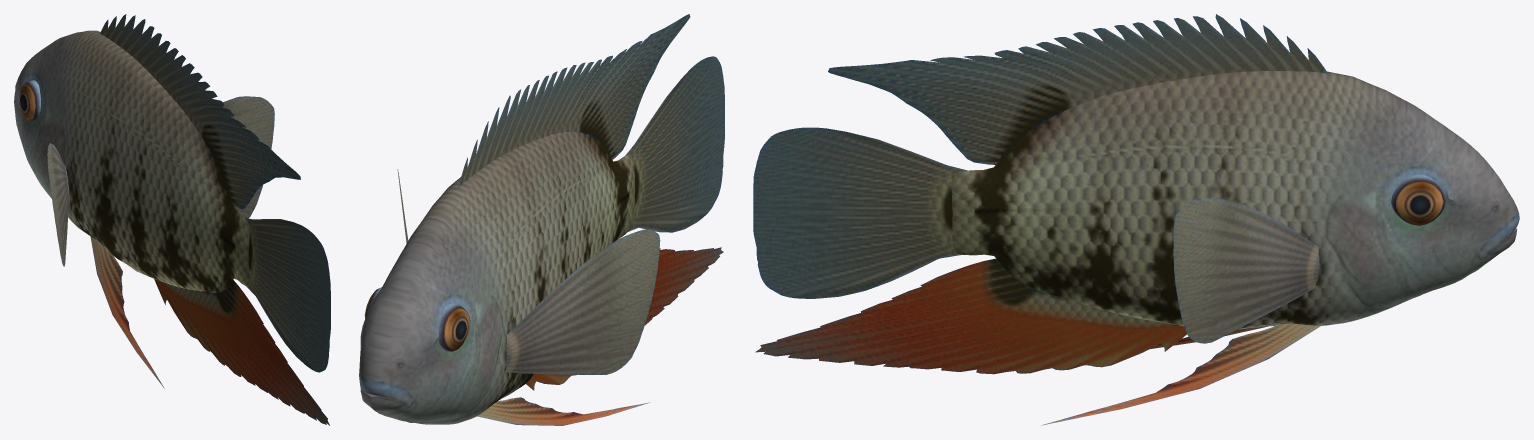
Rendered from peixe1.fbx.
The picture shows the model from 3 angles, left to right: view 1: azimuth 30°, elevation 25°; view 2: azimuth 150°, elevation 25°; view 3: azimuth 270°, elevation 25°; orthographic projection. The views are drawn at different scales.
Parts seen in each view (by area): view 1: Default; view 2: Default; view 3: Default.
Part boxes in pixels (bbox=[...]): Default: bbox=[14, 14, 330, 425]; Default: bbox=[359, 14, 724, 425]; Default: bbox=[753, 14, 1519, 425].
Size of the model in its own units: 1.06 by 1.37 by 2.5.
Materials: 1 (1 with a texture image).
